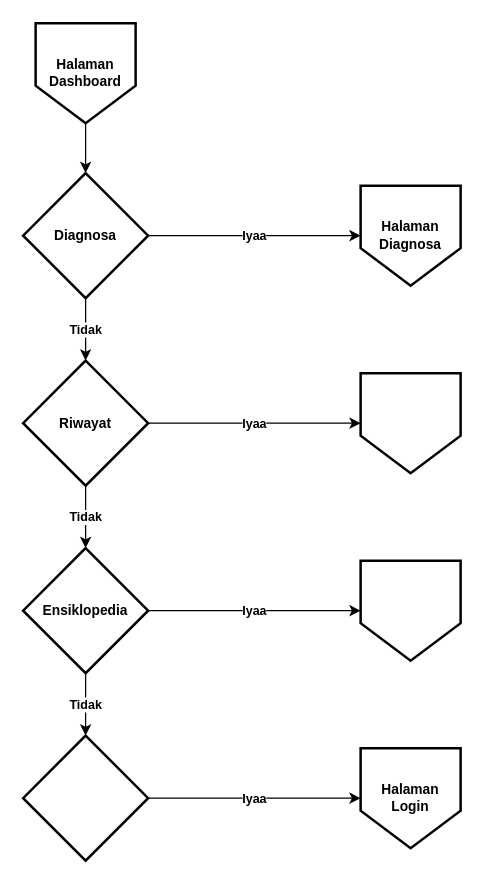
This 483x883 diagram has some shape labels left out. The shapes that lost their labels are listed below. From the top down, each one's centre as x and y in pixels, then its label:
pixel 410 422: Halaman Riwayat
pixel 410 610: Halaman Ensiklopedia
pixel 85 797: Logout
